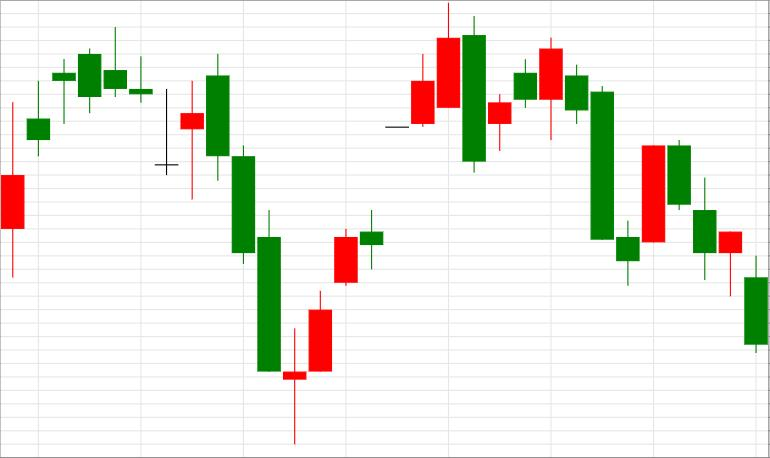morning_star_rise: (104, 25, 331, 445)
